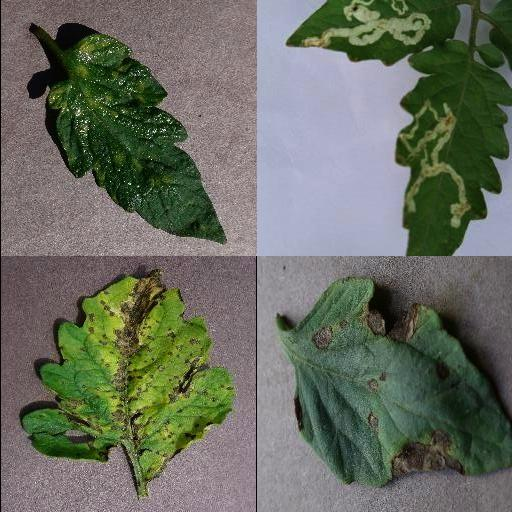Early Blight: (294, 276, 512, 488)
Leaf Miner: (394, 48, 512, 256), (284, 0, 461, 66)
Leaf Mold: (48, 31, 226, 245)
Septoria: (23, 269, 234, 477)
